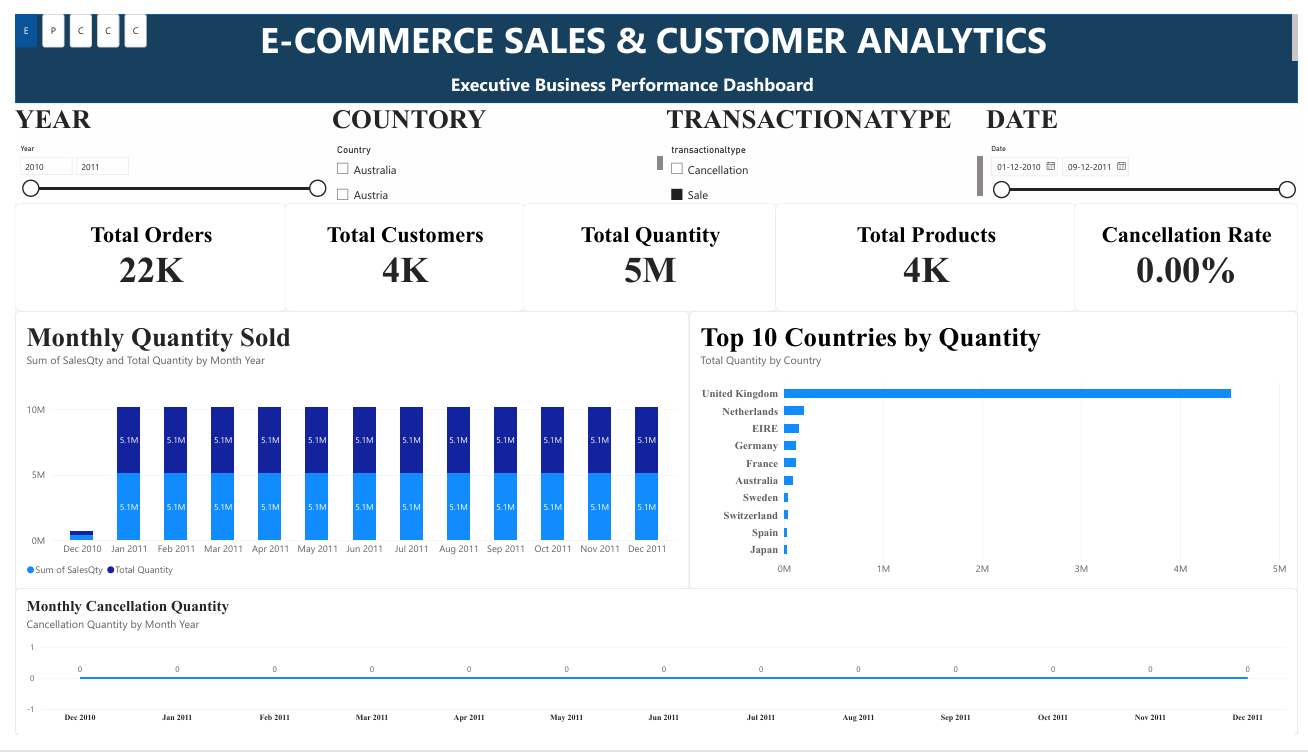

The page's visual inventory and layout, read from the dashboard file:
{"tool":"powerbi","page":{"name":"Executive Overview","canvas":[1920,1080],"ordinal":0},"visuals":[{"type":"slicer","title":"YEAR","fields":{"Values":["DateTable.Year"]},"box":[0,133.8,469.4,150.1],"z":0,"group":"g1"},{"type":"cardVisual","fields":{"Data":["DateTable.Total Orders"]},"box":[0,284,405.7,160.5],"z":0,"group":"g2"},{"type":"textbox","box":[0,609.3,1477.9,72],"z":0},{"type":"slicer","title":"COUNTORY","fields":{"Values":["EcommerceData.Country"]},"box":[473.5,134,496.2,150.1],"z":1000,"group":"g1"},{"type":"cardVisual","fields":{"Data":["DateTable.Total Customers"]},"box":[403.6,284,358.1,160.5],"z":1000,"group":"g2"},{"type":"textbox","box":[0,785,1478,150],"z":1000},{"type":"shape","box":[0,0,1920.4,133.8],"z":2000},{"type":"slicer","title":"TRANSACTIONATYPE","fields":{"Values":["EcommerceData.transactionaltype"]},"box":[973.8,134,475.6,150.1],"z":2000,"group":"g1"},{"type":"cardVisual","fields":{"Data":["DateTable.Total Quantity"]},"box":[759.6,284,380.9,160.5],"z":2000,"group":"g2"},{"type":"textbox","box":[0,0,1920.4,70],"z":3000},{"type":"slicer","title":"DATE","fields":{"Values":["EcommerceData.Date"]},"box":[1453.1,134,467.3,150.1],"z":3000,"group":"g1"},{"type":"cardVisual","fields":{"Data":["DateTable.Total Products"]},"box":[1138.4,284,449.2,160.5],"z":3000,"group":"g2"},{"type":"textbox","box":[652.5,86.4,625.7,65.9],"z":4000},{"type":"cardVisual","fields":{"Data":["DateTable.Cancellation Order Rate"]},"box":[1585.1,284,335.3,160.5],"z":4000,"group":"g2"},{"type":"group","id":"g1","title":"Group 1","box":[0,133.8,1920.4,150.3],"z":5000},{"type":"pageNavigator","box":[0,0,200,50],"z":6000},{"type":"group","id":"g2","title":"Group 1","box":[0,284,1920.4,160.5],"z":7000},{"type":"clusteredBarChart","title":"Top 10 Countries by Quantity","fields":{"Category":["EcommerceData.Country"],"Y":["DateTable.Total Quantity"]},"box":[1008.6,444.6,911.8,419.9],"z":8000},{"type":"columnChart","title":"Monthly Quantity Sold","fields":{"Category":["DateTable.Month Year"],"Y":["Sum(EcommerceData.SalesQty)"]},"box":[0,444.6,1008.6,419.9],"z":9000},{"type":"lineChart","title":"Monthly Cancellation Quantity","fields":{"Category":["DateTable.Month Year"],"Y":["DateTable.Cancellation Quantity"]},"box":[0,860.4,1920.4,220.2],"z":10000}]}

Visuals, with their boxes in screenshot pixels (x1, y1, x2, y2), scaled from the page's 1920x1080 canvas onto the 1308x752 screenshot:
"YEAR" slicer: box=[0, 93, 320, 198]
cardVisual - DateTable.Total Orders: box=[0, 198, 276, 310]
textbox: box=[0, 424, 1007, 474]
"COUNTORY" slicer: box=[323, 93, 661, 198]
cardVisual - DateTable.Total Customers: box=[275, 198, 519, 310]
textbox: box=[0, 547, 1007, 651]
shape: box=[0, 0, 1307, 93]
"TRANSACTIONATYPE" slicer: box=[663, 93, 987, 198]
cardVisual - DateTable.Total Quantity: box=[517, 198, 777, 310]
textbox: box=[0, 0, 1307, 49]
"DATE" slicer: box=[990, 93, 1307, 198]
cardVisual - DateTable.Total Products: box=[776, 198, 1082, 310]
textbox: box=[445, 60, 871, 106]
cardVisual - DateTable.Cancellation Order Rate: box=[1080, 198, 1307, 310]
"Group 1" group: box=[0, 93, 1307, 198]
pageNavigator: box=[0, 0, 136, 35]
"Group 1" group: box=[0, 198, 1307, 310]
"Top 10 Countries by Quantity" clusteredBarChart: box=[687, 310, 1307, 602]
"Monthly Quantity Sold" columnChart: box=[0, 310, 687, 602]
"Monthly Cancellation Quantity" lineChart: box=[0, 599, 1307, 751]
